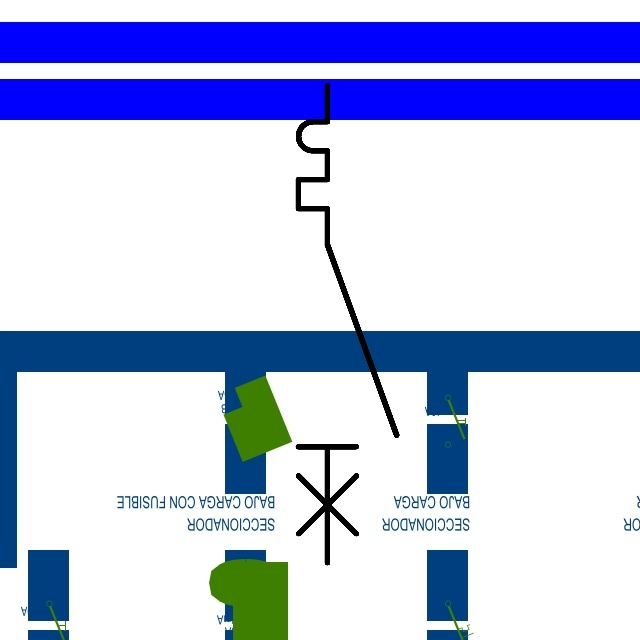interruptor_termomagnetico: (286, 73, 409, 575)
